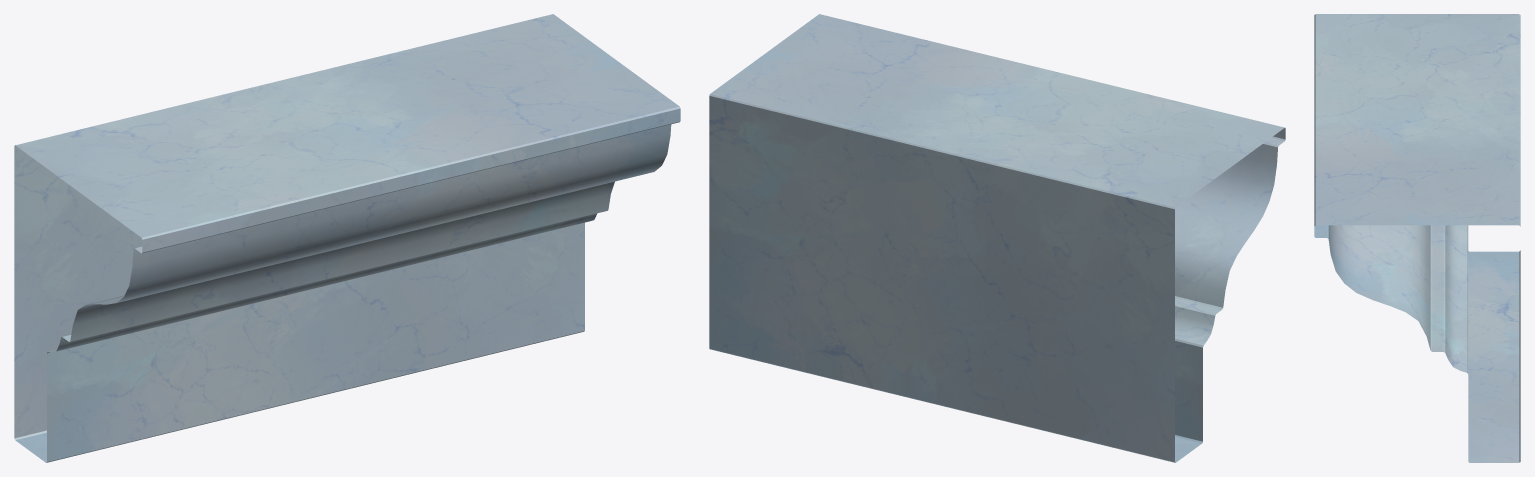
Rendered from Roof bas-relief.fbx.
3 views of the same model, side by side, from view 1: azimuth 30°, elevation 25°; view 2: azimuth 150°, elevation 25°; view 3: azimuth 270°, elevation 25° (orthographic). The views are drawn at different scales.
Parts seen in each view (by area): view 1: Roof bas-relief; view 2: Roof bas-relief; view 3: Roof bas-relief.
Boxes of the visible parts, x1,y1,x2,y2 form: Roof bas-relief: (14,14,680,462); Roof bas-relief: (709,14,1285,462); Roof bas-relief: (1314,14,1520,462).
Size of the model in its own units: 200 by 105 by 82.35.
